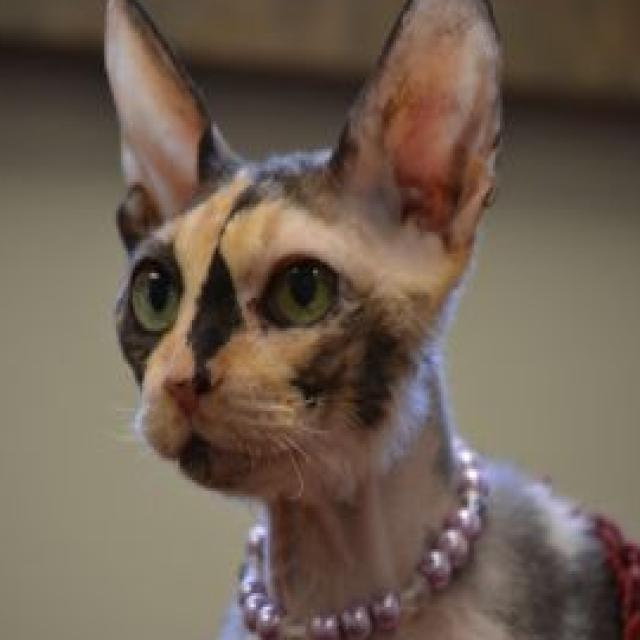Cornish Rex: (97, 0, 640, 640)
